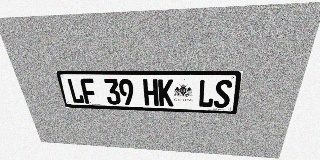3: (104, 79, 121, 105)
9: (118, 79, 135, 105)
F: (80, 78, 98, 104)
H: (143, 79, 159, 106)
K: (158, 79, 173, 106)
L: (66, 78, 85, 104), (198, 80, 215, 108)
S: (213, 80, 233, 108)
